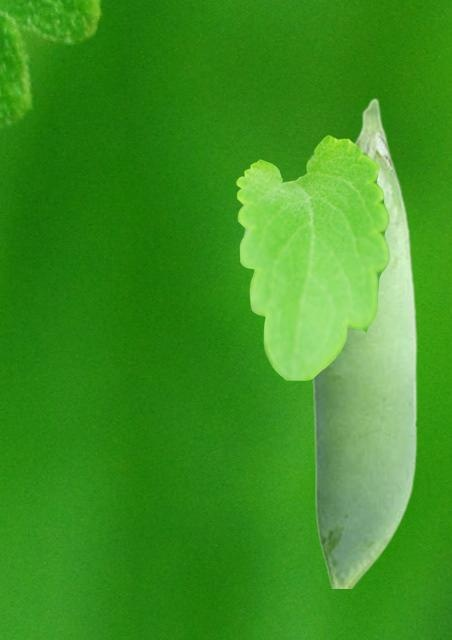pea: (309, 97, 416, 587)
